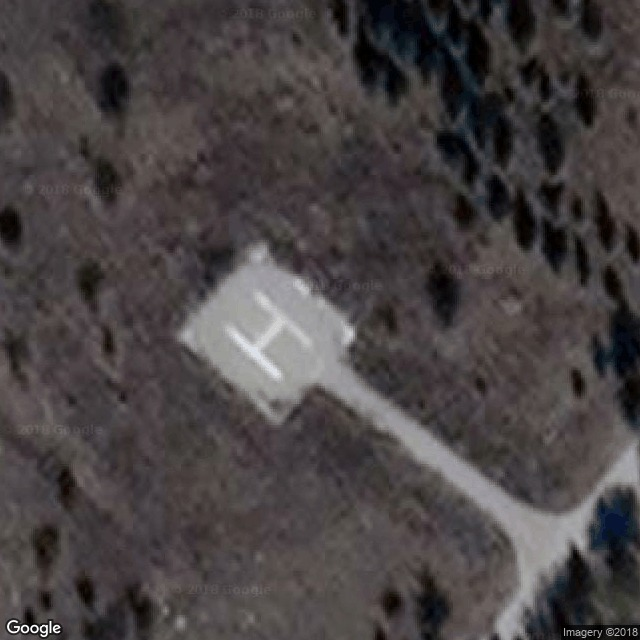heliport: (216, 286, 322, 392)
